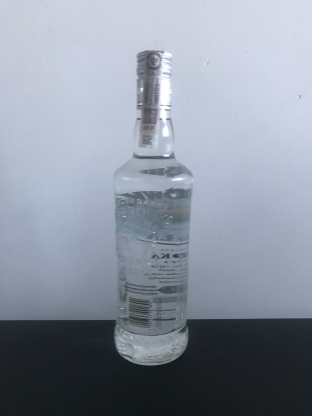nakretka: (133, 46, 175, 114)
